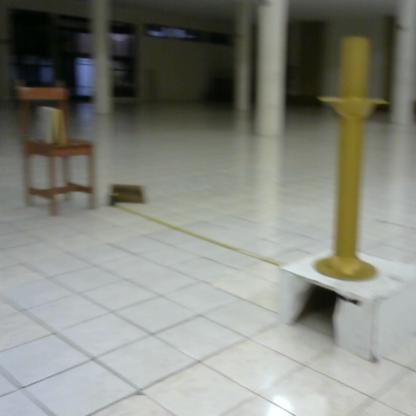pole: (311, 34, 397, 289)
